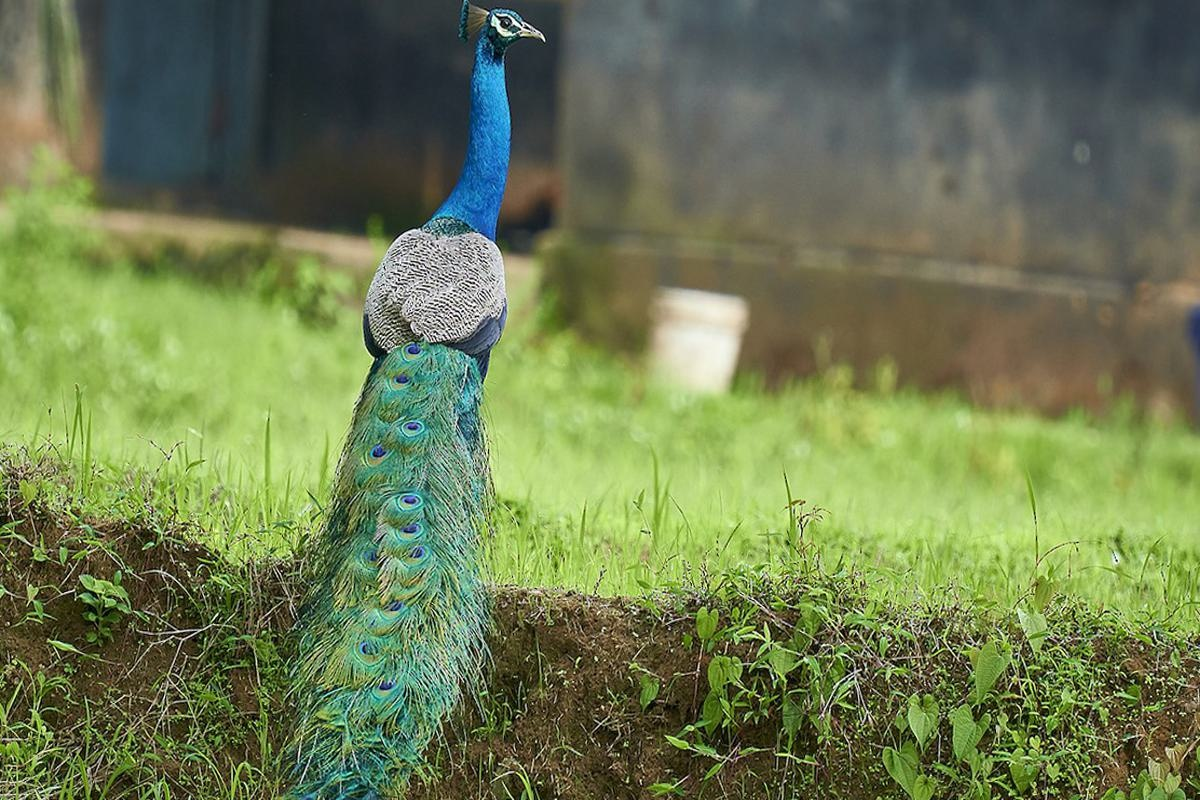peacock: (263, 1, 578, 751)
